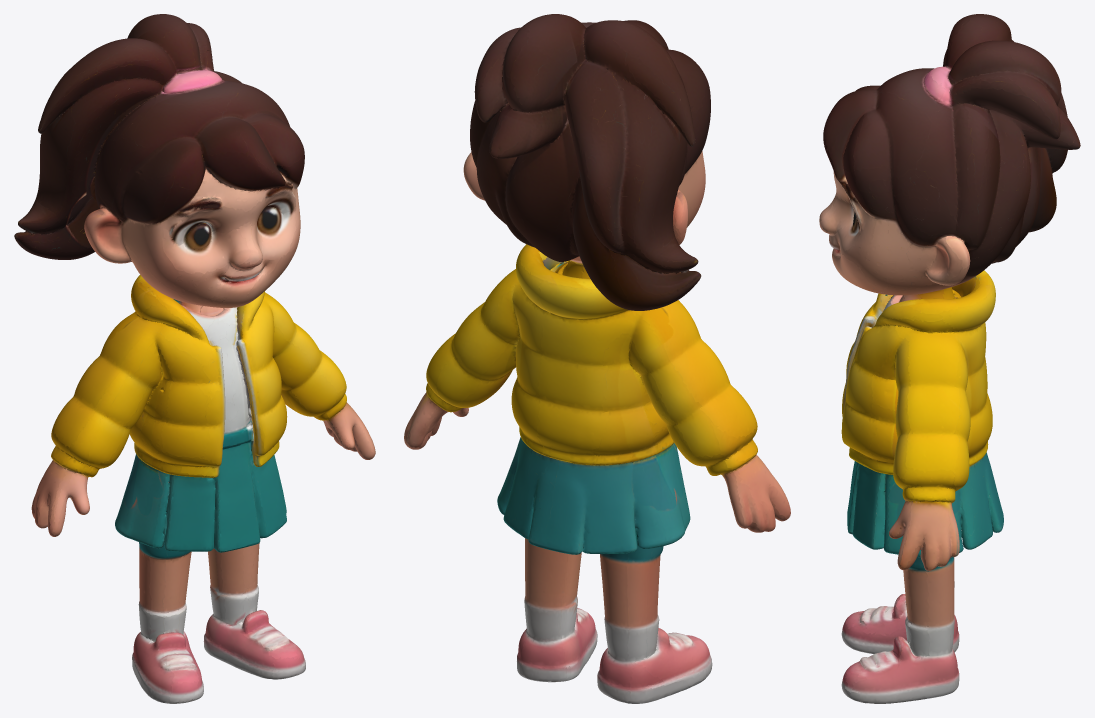
The model's file is Girl.glb.
3 renders of one model, left to right at view 1: azimuth 30°, elevation 25°; view 2: azimuth 150°, elevation 25°; view 3: azimuth 270°, elevation 25°, orthographic. The views are drawn at different scales.
Parts seen in each view (by area): view 1: geometry_0; view 2: geometry_0; view 3: geometry_0.
Boxes of the visible parts, bbox=[...] form: geometry_0: bbox=[14, 14, 375, 703]; geometry_0: bbox=[404, 14, 790, 703]; geometry_0: bbox=[819, 14, 1080, 703].
Size of the model in its own units: 0.0833 by 0.15 by 0.0568.
Materials: 1 (1 with a texture image).
